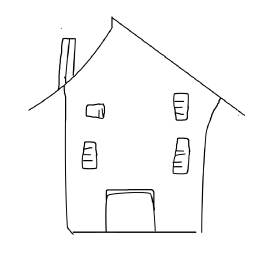chimney: (48, 32, 81, 86)
closed_window: (170, 136, 199, 179), (165, 88, 194, 125), (79, 138, 101, 175), (83, 100, 112, 123)
door: (100, 181, 160, 237)
single_line_roof: (15, 12, 245, 117)
wall: (59, 89, 213, 243)
